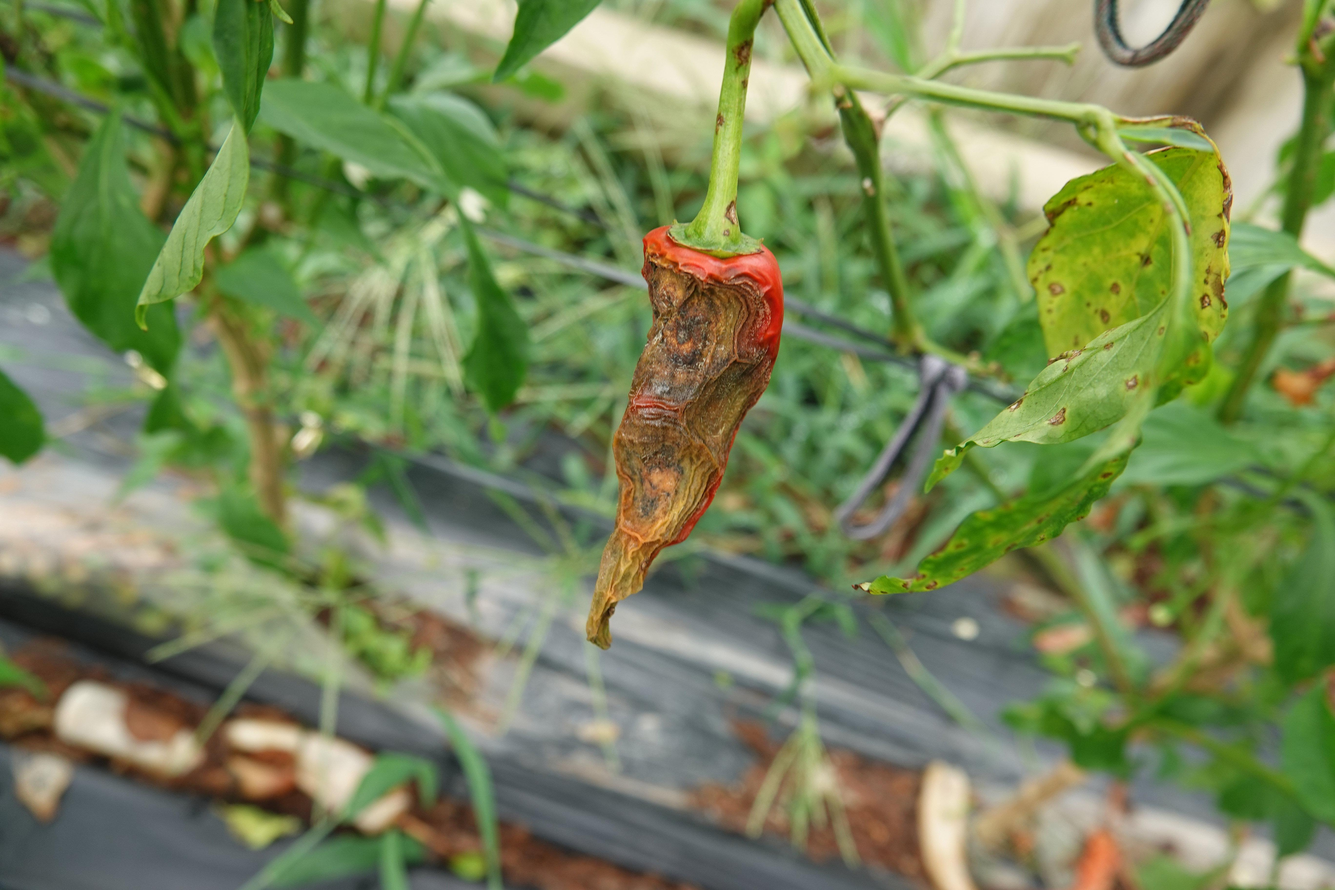Busuk Buah Antraknosa: (582, 219, 786, 651)
